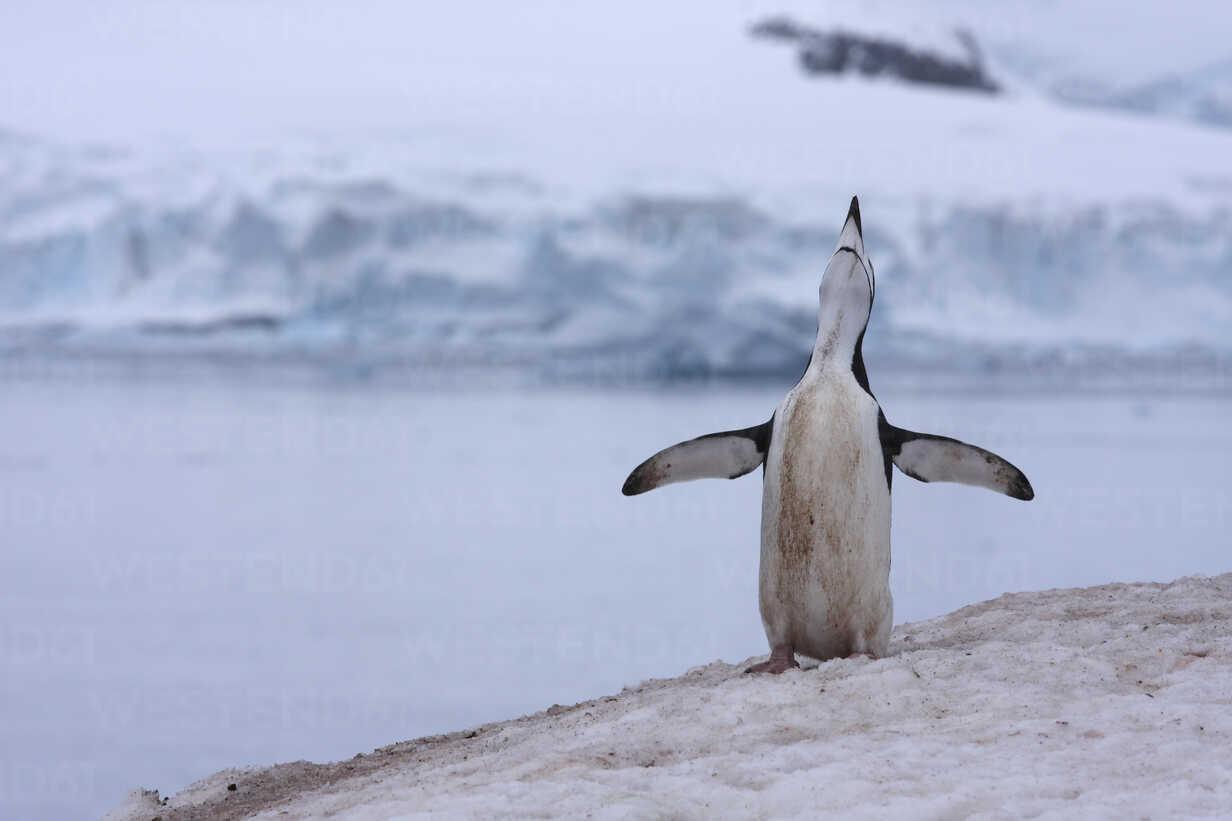Penguin: (623, 197, 1032, 673)
